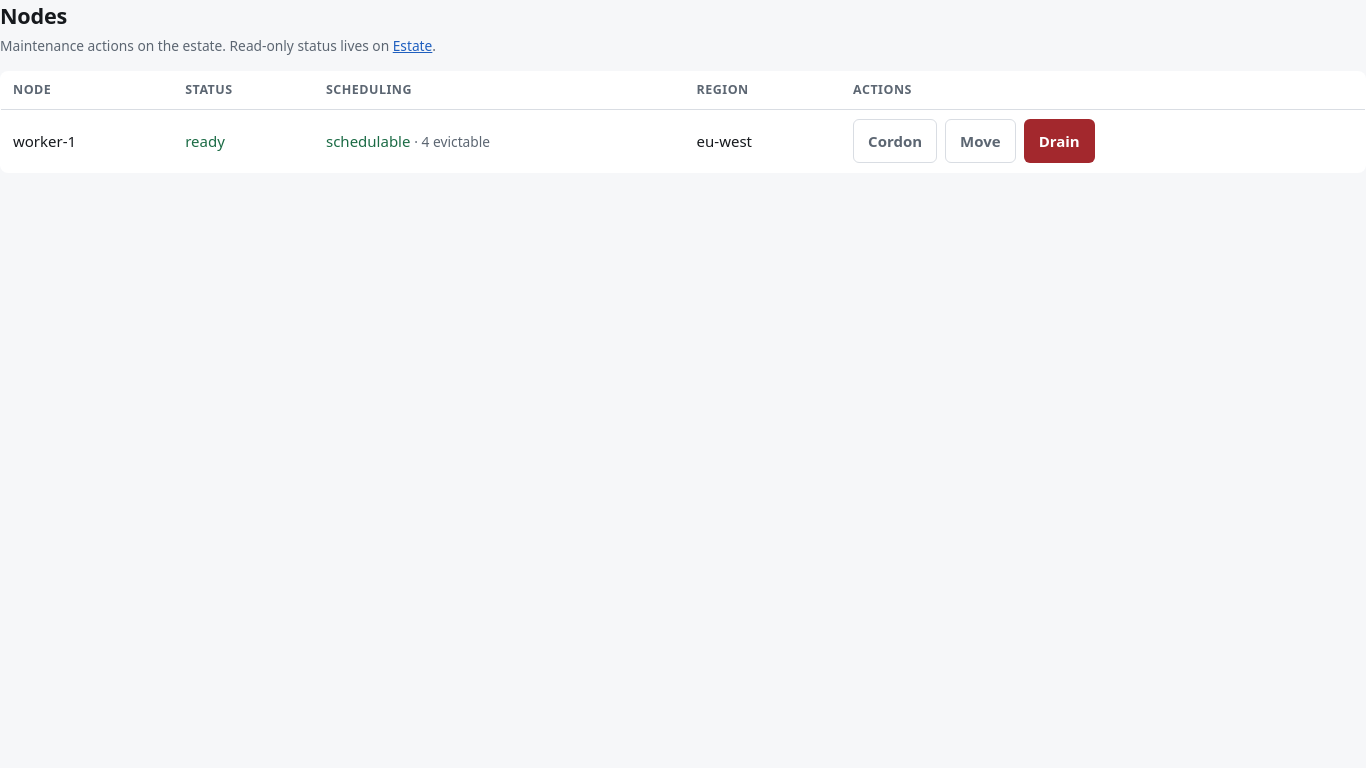
Scenario: a refused action is reported rather than assumed › explains a missing operator authority and leaves the dialog open
This screenshot has width=1366, height=768.
Step 1. Click the button "Cordon" → (895, 141), box [853, 119, 937, 163]
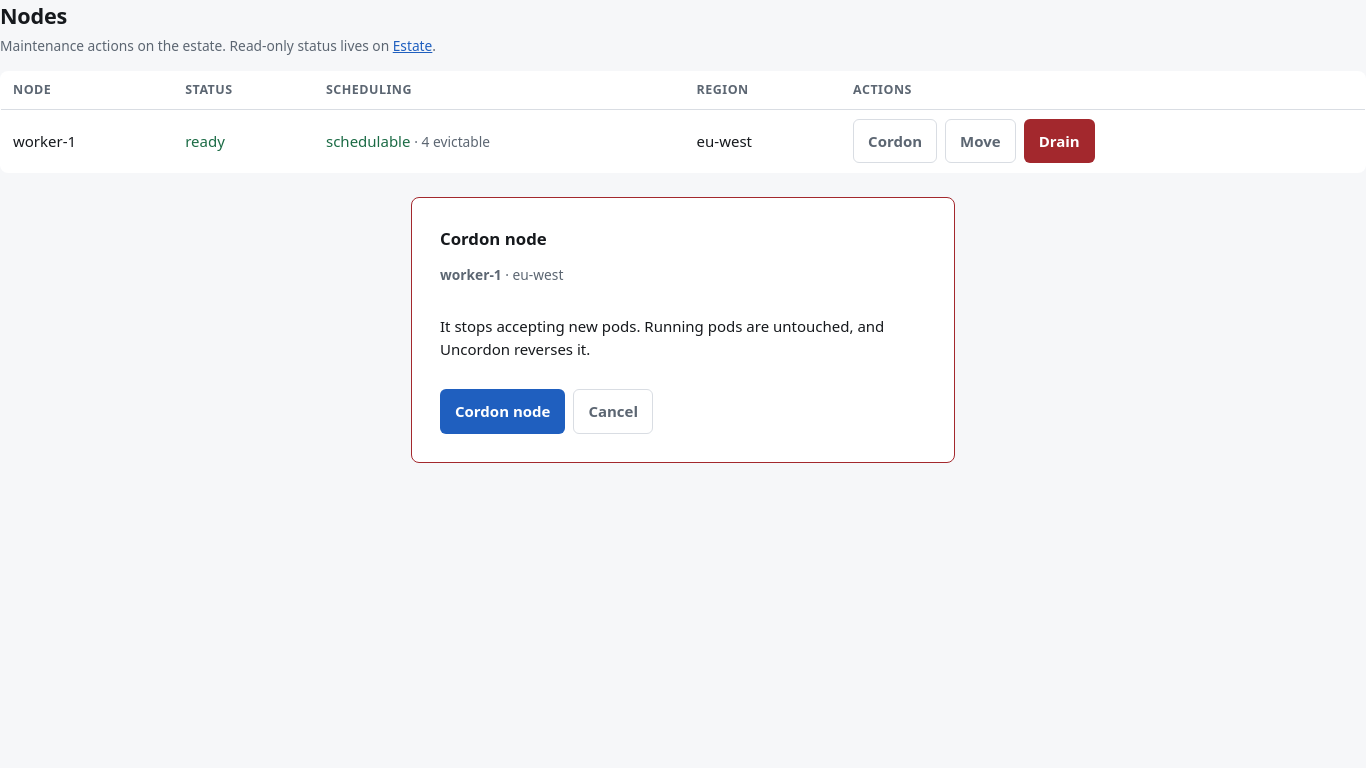
Step 2. Click the button "Cordon node" → (503, 411), box [440, 389, 565, 434]
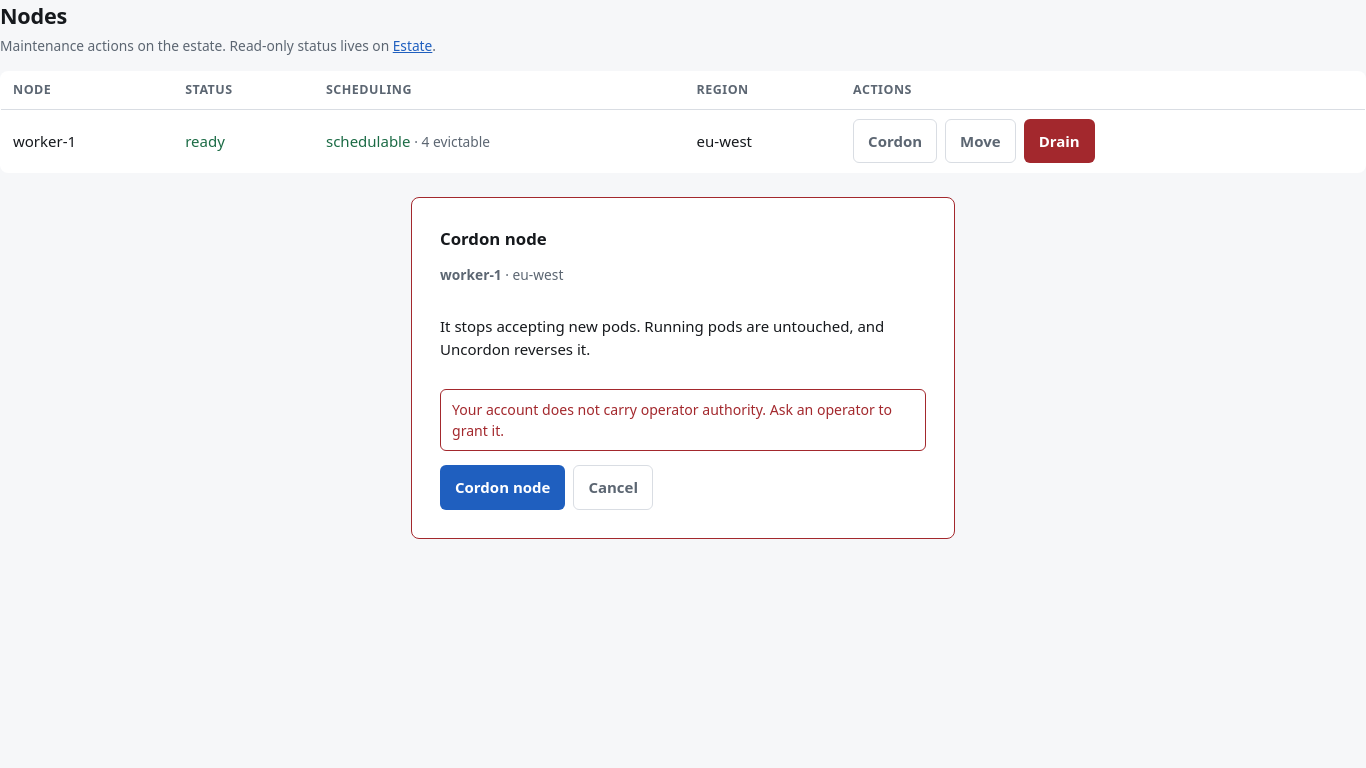
Check: the dialog is shown, box [411, 197, 955, 539]
Check: the message "Your account does not carry operator authority. Ask an operator to grant it." is shown, box [440, 389, 926, 451]
